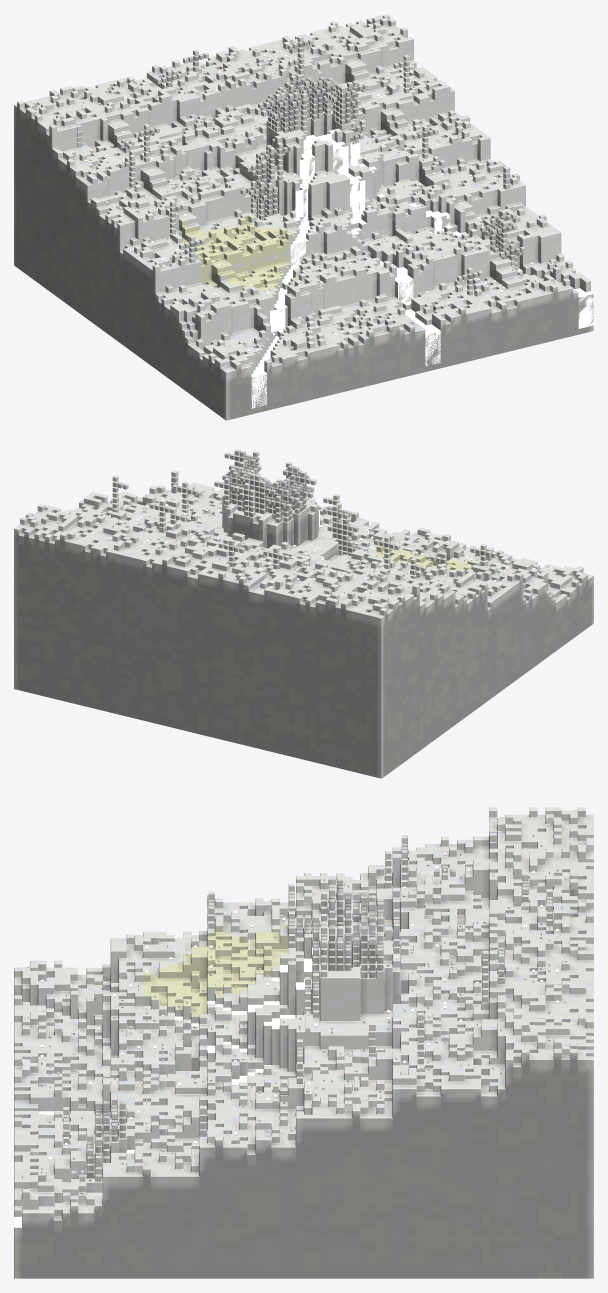
The model's file is volcano.glb.
3 views of the same model, one above another, from view 1: azimuth 30°, elevation 25°; view 2: azimuth 150°, elevation 25°; view 3: azimuth 270°, elevation 25° (orthographic). The views are drawn at different scales.
Parts seen in each view (by area): view 1: terrain, props, fall_lava, glow; view 2: terrain, props; view 3: terrain, props, glow.
Part boxes in pixels (left/top/right/bottom): terrain: left=14, top=14, right=593, bottom=420; props: left=69, top=36, right=551, bottom=351; fall_lava: left=251, top=130, right=593, bottom=408; glow: left=126, top=128, right=593, bottom=376; terrain: left=14, top=482, right=593, bottom=778; props: left=57, top=449, right=551, bottom=593; terrain: left=14, top=807, right=593, bottom=1278; props: left=40, top=832, right=567, bottom=1194; glow: left=14, top=869, right=445, bottom=1226.
Size of the model in its own units: 72 by 36.78 by 72.
